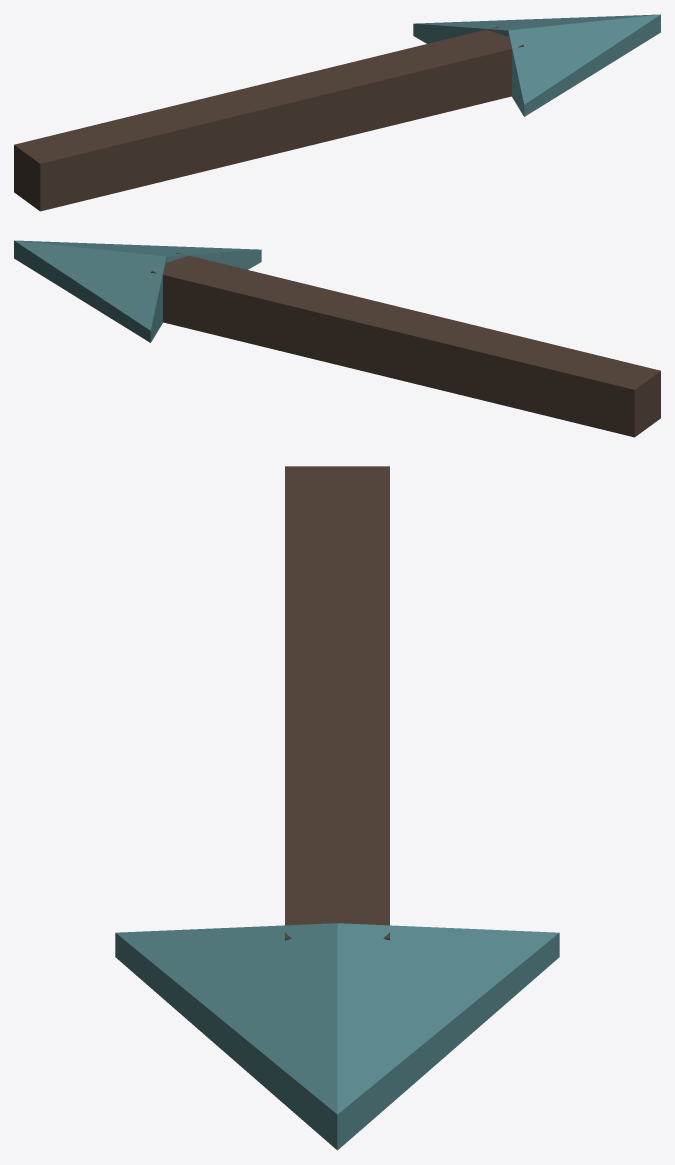
The model's file is Proyectile_arrow_1.fbx.
3 renders of one model, top to bottom at view 1: azimuth 30°, elevation 25°; view 2: azimuth 150°, elevation 25°; view 3: azimuth 270°, elevation 25°, orthographic. The views are drawn at different scales.
Parts seen in each view (by area): view 1: Flecha; view 2: Flecha; view 3: Flecha.
Boxes of the visible parts, x1,y1,x2,y2 form: Flecha: (14,14,660,211); Flecha: (14,240,660,437); Flecha: (115,466,559,1150).
Size of the model in its own units: 135 by 445 by 40.52.
